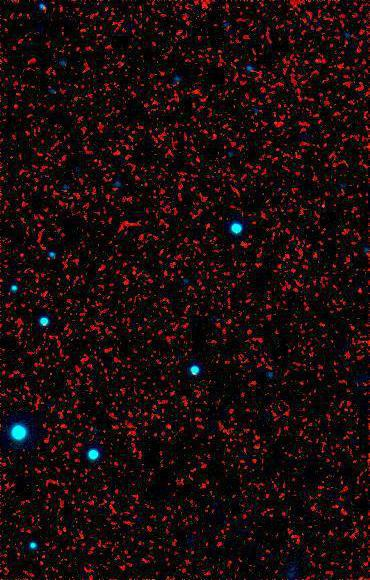star: (307, 194, 337, 224)
